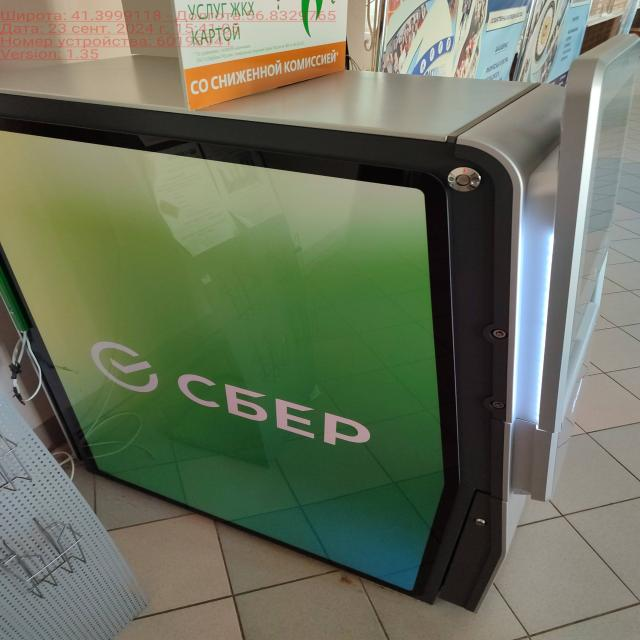bank: (0, 52, 640, 609)
